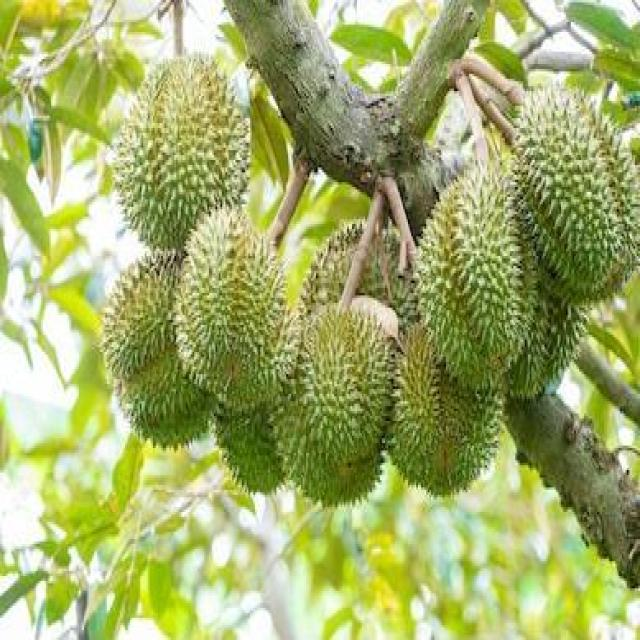immature: (511, 76, 640, 305), (111, 49, 252, 254), (413, 163, 540, 390), (271, 300, 398, 514), (173, 203, 294, 414)
